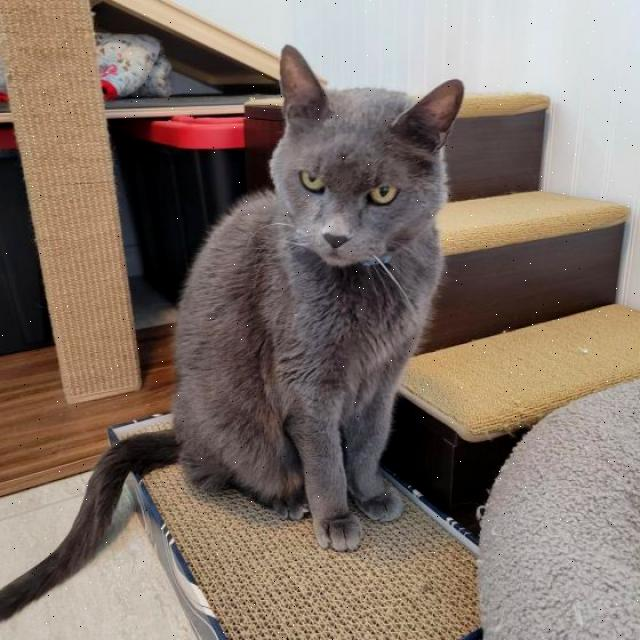russian_blue_cat: (256, 40, 468, 282)
